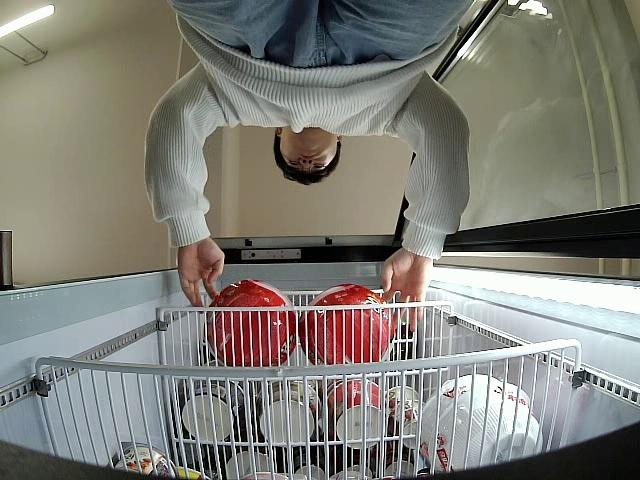00_hand: (381, 249, 429, 330), (175, 241, 223, 304)
10_wangTtukkeong: (297, 283, 401, 366), (201, 280, 297, 369)
